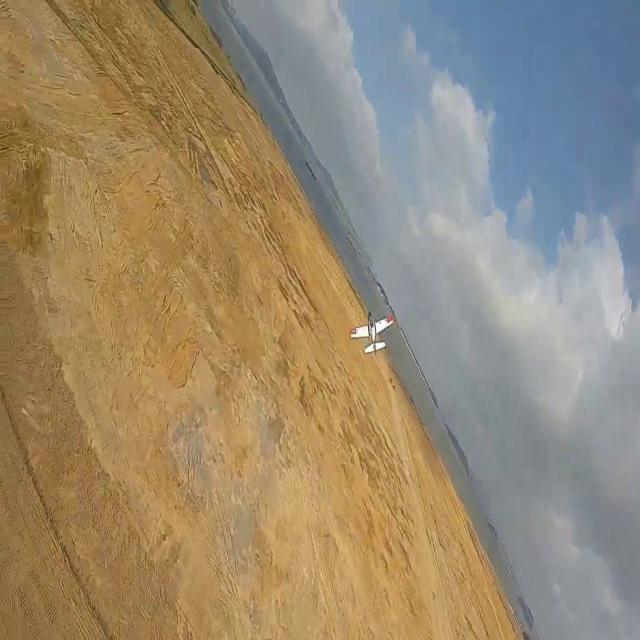iha: (346, 299, 402, 353)
